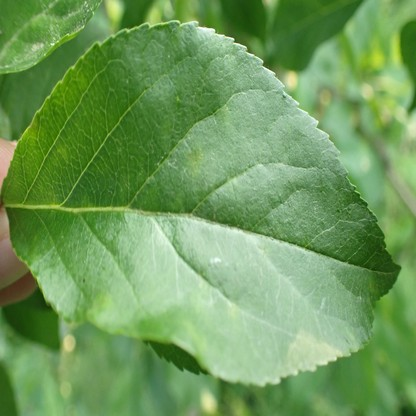scab: (289, 329, 343, 371), (85, 290, 113, 320), (187, 142, 201, 174), (23, 113, 38, 140)
